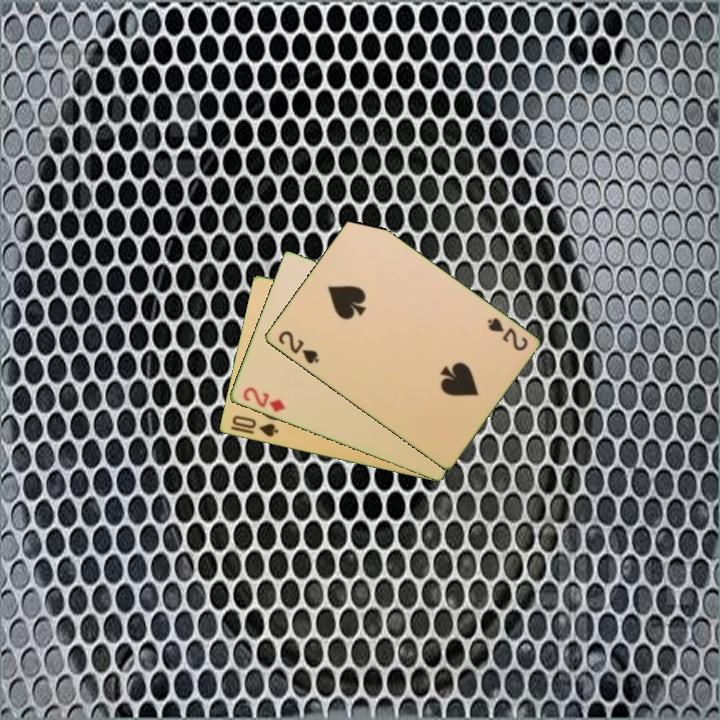10s: (228, 412, 281, 440)
2d: (239, 384, 288, 415)
2s: (274, 327, 322, 367), (483, 314, 531, 354)
